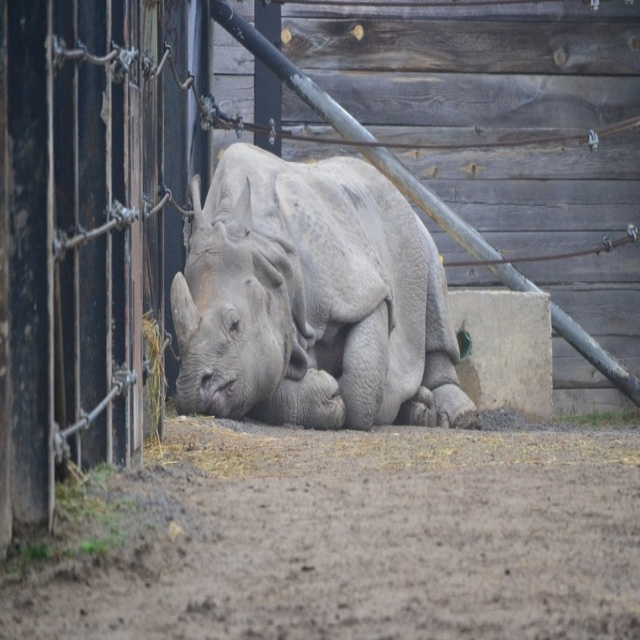Rhinoceros: (168, 132, 484, 425)
